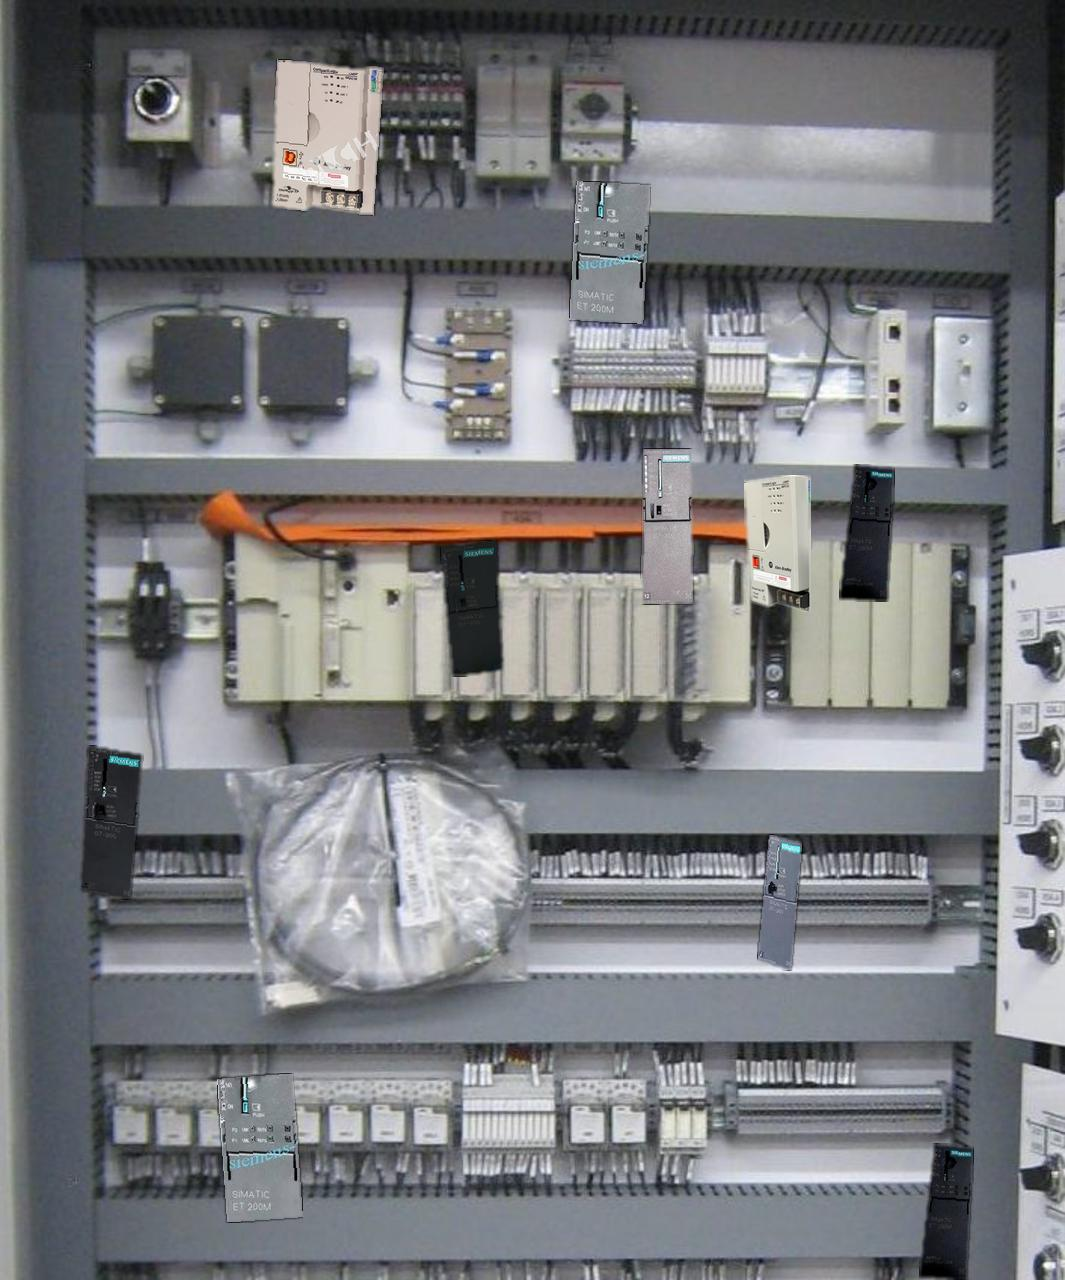AllenBradley: (272, 58, 382, 215), (744, 475, 810, 611)
Siemens: (81, 746, 141, 898), (441, 540, 502, 676), (642, 449, 692, 603), (758, 835, 801, 969)
